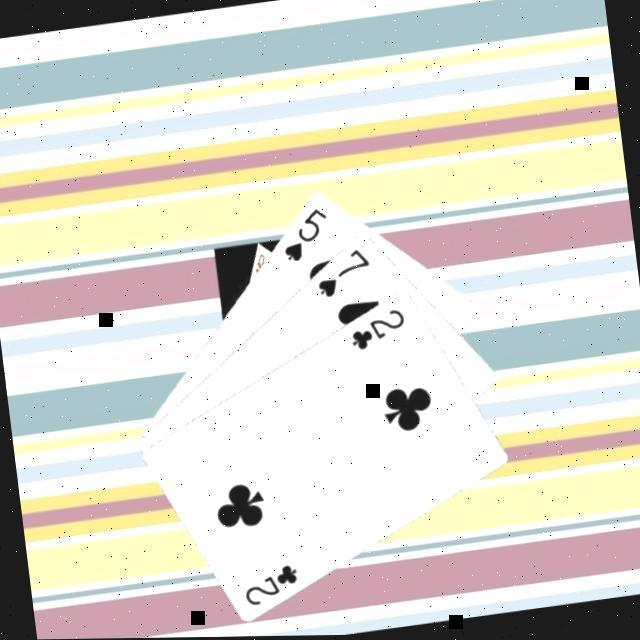2C: (344, 304, 409, 356), (238, 560, 304, 610)
5S: (274, 205, 334, 268)
7S: (308, 244, 376, 304)
